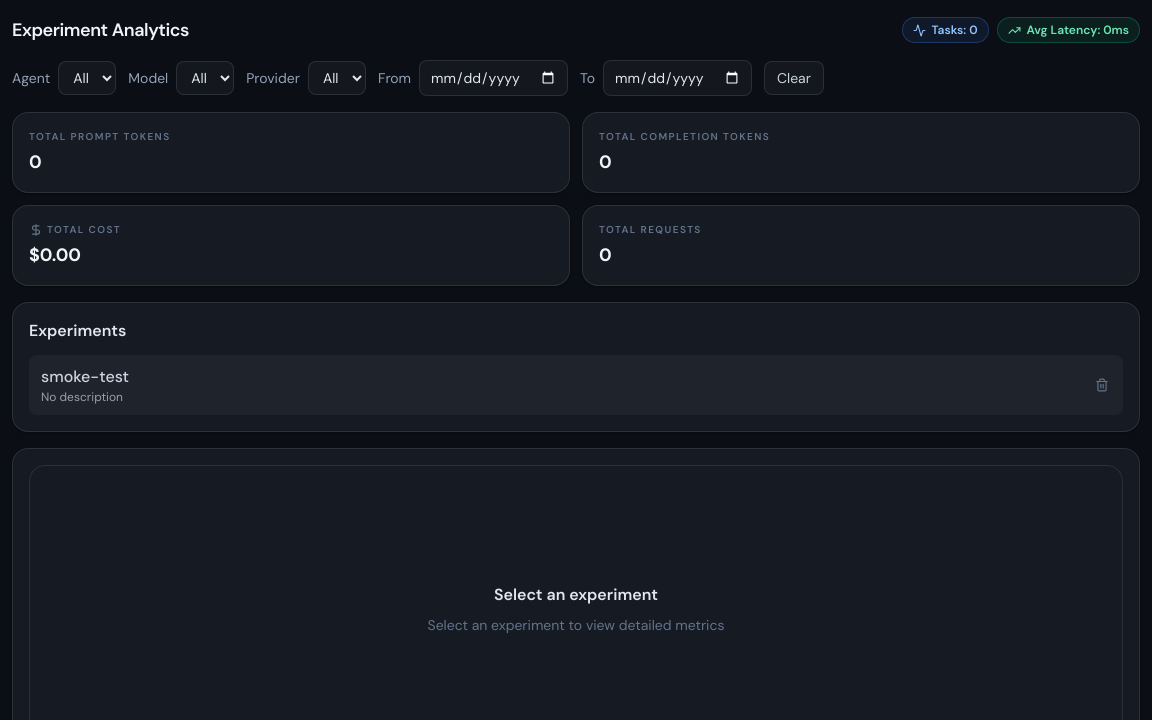
Scenario: AnalyticsDashboard › deleting an experiment asks for confirmation, removes the grouping, and clears the selection
Click the button named "Delete experiment smoke-test".
click(1102, 385)  # box x1=1089 y1=372 x2=1115 y2=398
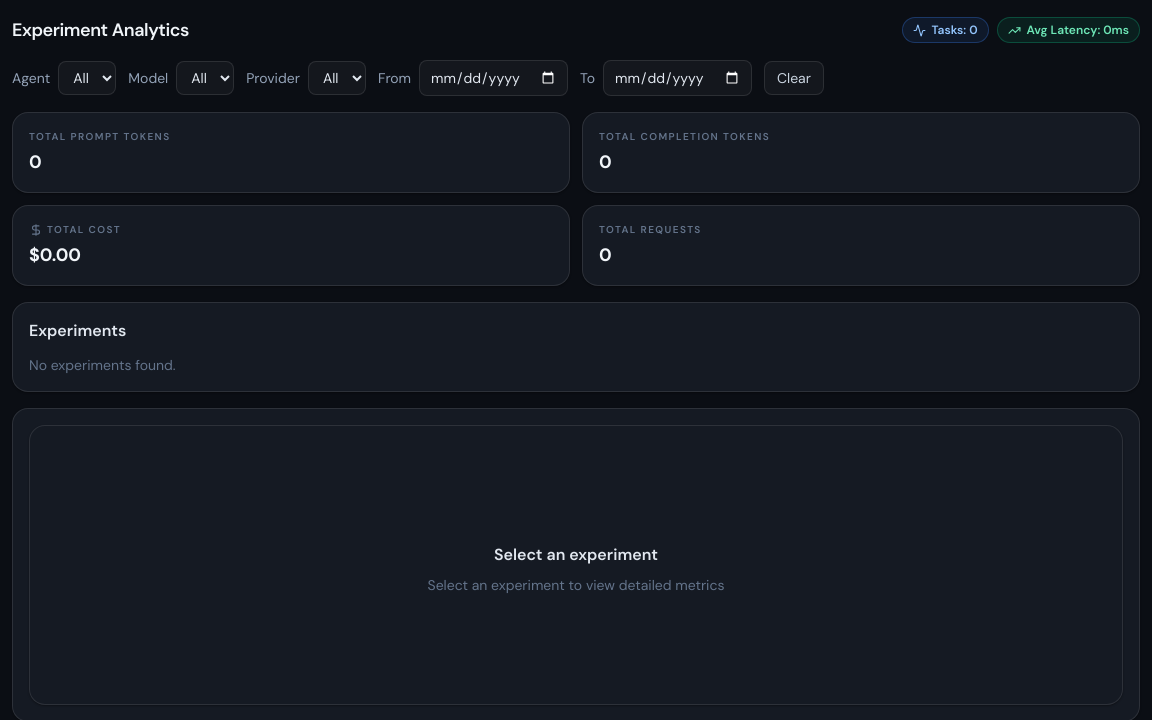
Check: the text "Select an experiment to view detailed metrics" is shown, box x1=428 y1=575 x2=724 y2=595
Check: the text "No experiments found." is shown, box x1=29 y1=356 x2=176 y2=374
Check: the button "smoke-test" is gone
